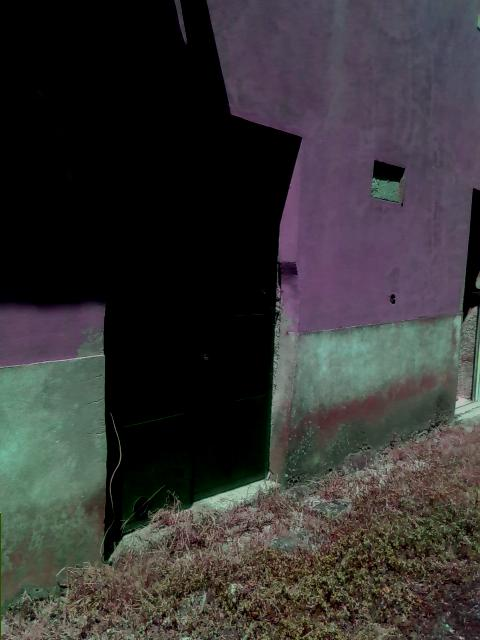closed_door: (103, 89, 281, 562)
